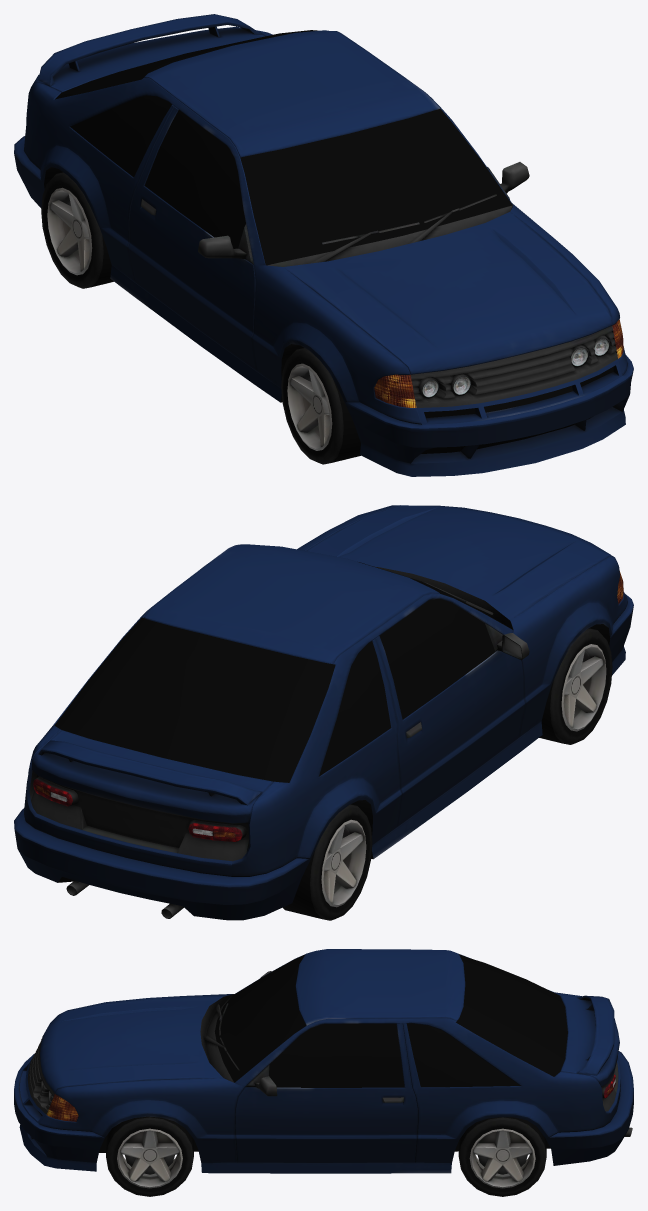
Rendered from coupe_blue.glb.
The picture shows the model from 3 angles, top to bottom: view 1: azimuth 30°, elevation 25°; view 2: azimuth 150°, elevation 25°; view 3: azimuth 270°, elevation 25°; orthographic projection. The views are drawn at different scales.
Parts seen in each view (by area): view 1: coupe body, Front Right Wheel, Rear Right Wheel; view 2: coupe body, Rear Right Wheel, Front Right Wheel; view 3: coupe body, Front Left Wheel, Rear Left Wheel.
Part boxes in pixels (left/top/right/bottom): coupe body: left=14, top=14, right=633, bottom=476; Front Right Wheel: left=281, top=348, right=360, bottom=464; Rear Right Wheel: left=41, top=172, right=113, bottom=288; coupe body: left=14, top=505, right=633, bottom=920; Rear Right Wheel: left=282, top=804, right=372, bottom=920; Front Right Wheel: left=539, top=628, right=612, bottom=744; coupe body: left=14, top=949, right=633, bottom=1173; Front Left Wheel: left=106, top=1116, right=193, bottom=1196; Rear Left Wheel: left=458, top=1117, right=546, bottom=1196.
Bounding box in the file's own units: 1.88 × 1.28 × 4.24.
Materials: 1 (1 with a texture image).
